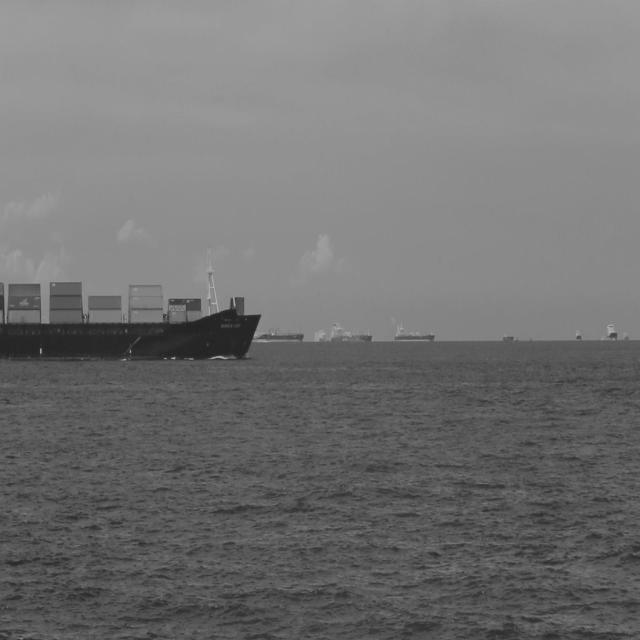ship: (0, 248, 262, 362), (394, 316, 438, 342), (331, 318, 378, 342), (260, 327, 308, 344), (248, 329, 262, 346)
